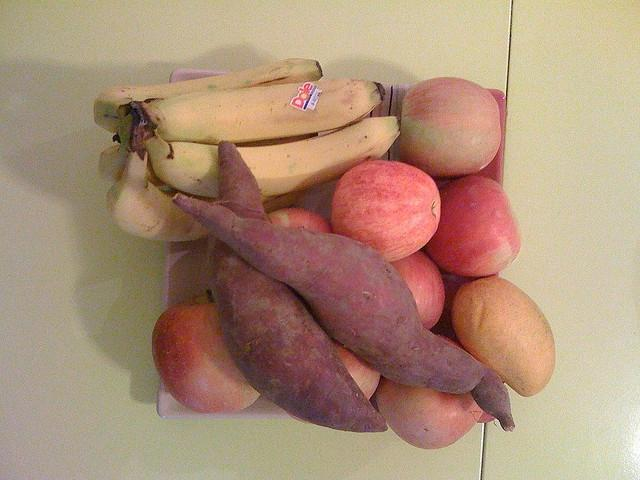apple: (152, 290, 261, 414), (331, 160, 441, 262), (398, 77, 502, 180), (426, 176, 522, 276), (376, 376, 486, 448), (388, 249, 446, 330), (330, 336, 380, 400), (267, 207, 334, 233)
banana: (144, 116, 403, 198), (105, 150, 308, 242), (92, 58, 322, 134), (148, 79, 386, 145), (98, 114, 132, 184)
potato: (172, 193, 515, 432), (206, 140, 389, 434)
